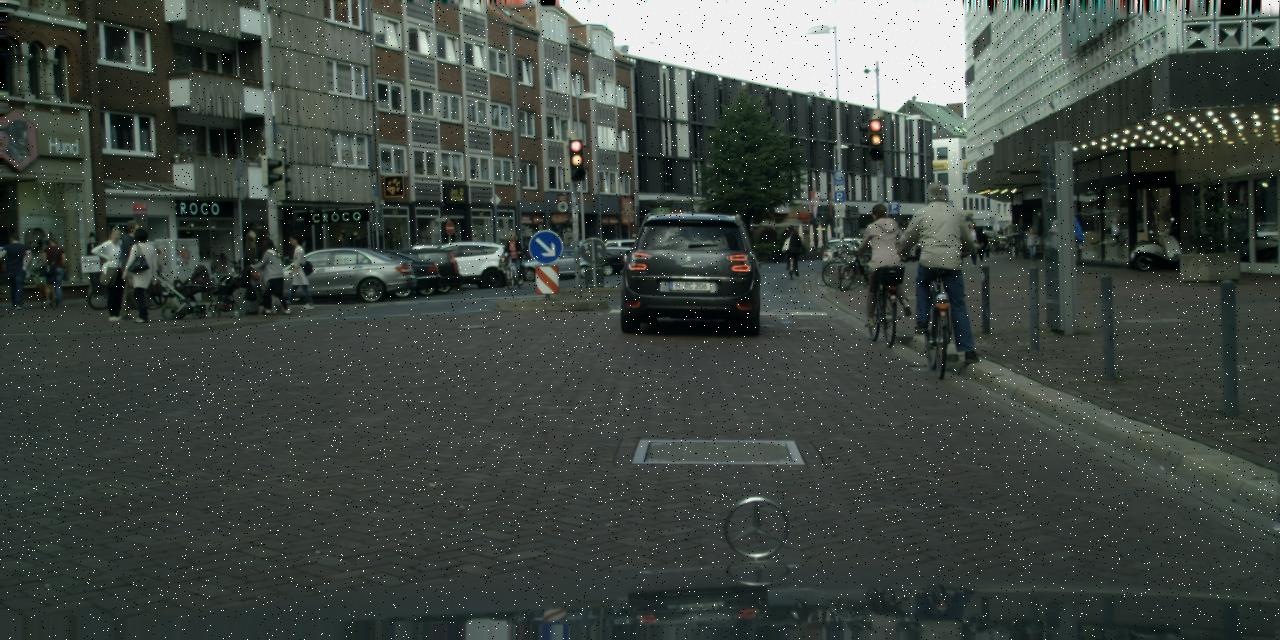ped: (908, 182, 976, 346), (860, 203, 907, 319), (122, 227, 162, 322), (95, 227, 134, 321), (114, 221, 152, 317), (249, 237, 292, 317), (1047, 200, 1081, 284), (0, 232, 31, 309), (280, 234, 309, 308), (40, 234, 69, 306), (781, 225, 800, 271), (503, 233, 522, 279), (964, 220, 982, 266), (1025, 228, 1040, 266), (974, 227, 987, 261)
